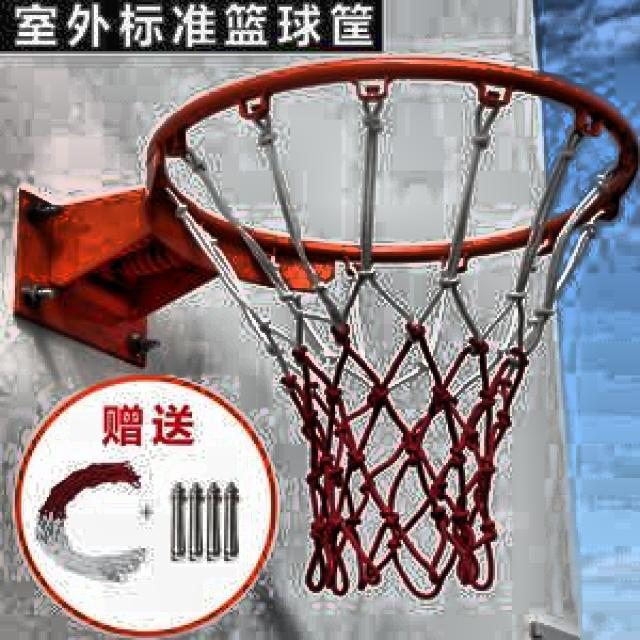rim: (157, 55, 639, 589)
